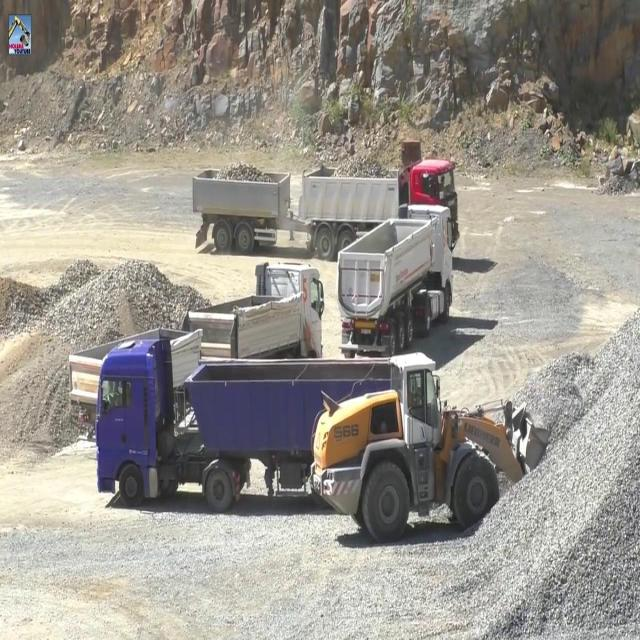buldozerpayloadergrader: (308, 348, 552, 544)
dump_truck: (95, 334, 393, 511), (66, 253, 324, 431), (191, 156, 459, 262), (334, 200, 454, 357)
